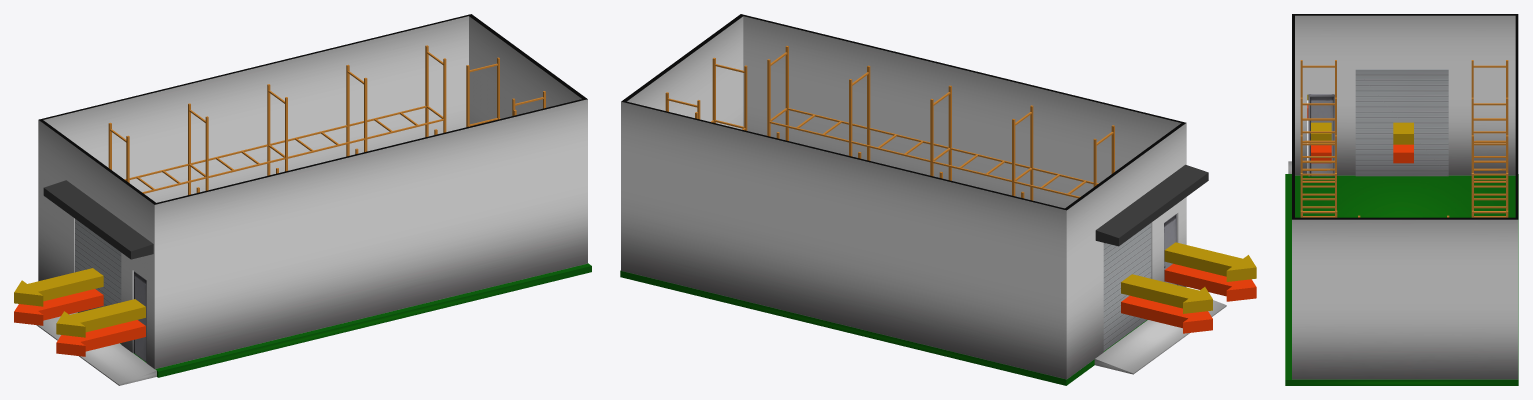
The model's file is soulbrain_T9-6-1F.glb.
3 views of the same model, side by side, from view 1: azimuth 30°, elevation 25°; view 2: azimuth 150°, elevation 25°; view 3: azimuth 270°, elevation 25° (orthographic). The views are drawn at different scales.
Parts seen in each view (by area): view 1: Box899, Box896, T9-6-1F, Box900, Box893, arrow_Y_2_T9-6-1F, arrow_Y_1_T9-6-1F, arrow_R_1_T9-6-1F, arrow_R_2_T9-6-1F; view 2: Box899, T9-6-1F, Box896, Box900, Box893, arrow_Y_1_T9-6-1F, arrow_Y_2_T9-6-1F, arrow_R_2_T9-6-1F, arrow_R_1_T9-6-1F; view 3: Box899, Box896, Box900, T9-6-1F, arrow_Y_2_T9-6-1F, arrow_R_2_T9-6-1F, arrow_Y_1_T9-6-1F, arrow_R_1_T9-6-1F.
Part boxes in pixels (<box>): Box899: <box>38,14,587,369</box>; Box896: <box>36,263,591,385</box>; T9-6-1F: <box>108,45,545,194</box>; Box900: <box>75,219,146,362</box>; Box893: <box>43,180,153,259</box>; arrow_Y_2_T9-6-1F: <box>14,268,103,306</box>; arrow_Y_1_T9-6-1F: <box>56,299,145,337</box>; arrow_R_1_T9-6-1F: <box>56,320,145,356</box>; arrow_R_2_T9-6-1F: <box>14,289,103,325</box>; Box899: <box>621,14,1186,379</box>; T9-6-1F: <box>665,46,1114,200</box>; Box896: <box>620,270,1226,385</box>; Box900: <box>1103,214,1176,351</box>; Box893: <box>1095,164,1208,246</box>; arrow_Y_1_T9-6-1F: <box>1164,242,1256,281</box>; arrow_Y_2_T9-6-1F: <box>1121,274,1212,313</box>; arrow_R_2_T9-6-1F: <box>1121,295,1212,333</box>; arrow_R_1_T9-6-1F: <box>1164,263,1256,301</box>; Box899: <box>1292,14,1518,379</box>; Box896: <box>1285,161,1518,385</box>; Box900: <box>1308,69,1448,176</box>; T9-6-1F: <box>1300,60,1508,217</box>; arrow_Y_2_T9-6-1F: <box>1393,122,1413,144</box>; arrow_R_2_T9-6-1F: <box>1393,144,1413,163</box>; arrow_Y_1_T9-6-1F: <box>1307,94,1331,143</box>; arrow_R_1_T9-6-1F: <box>1307,105,1331,163</box>.
Bounding box in the file's own units: 19.75 × 6.23 × 7.93.
Materials: 10 (6 with a texture image).
